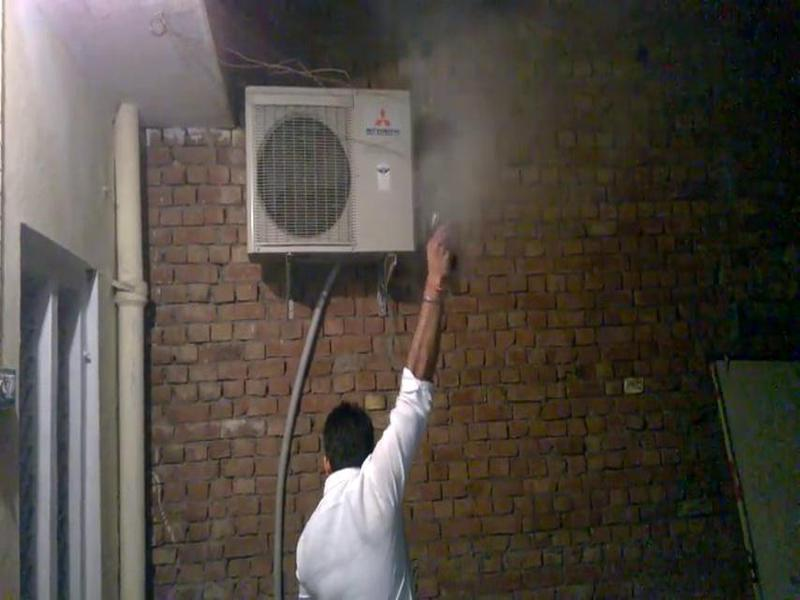Revolver: (414, 178, 467, 284)
